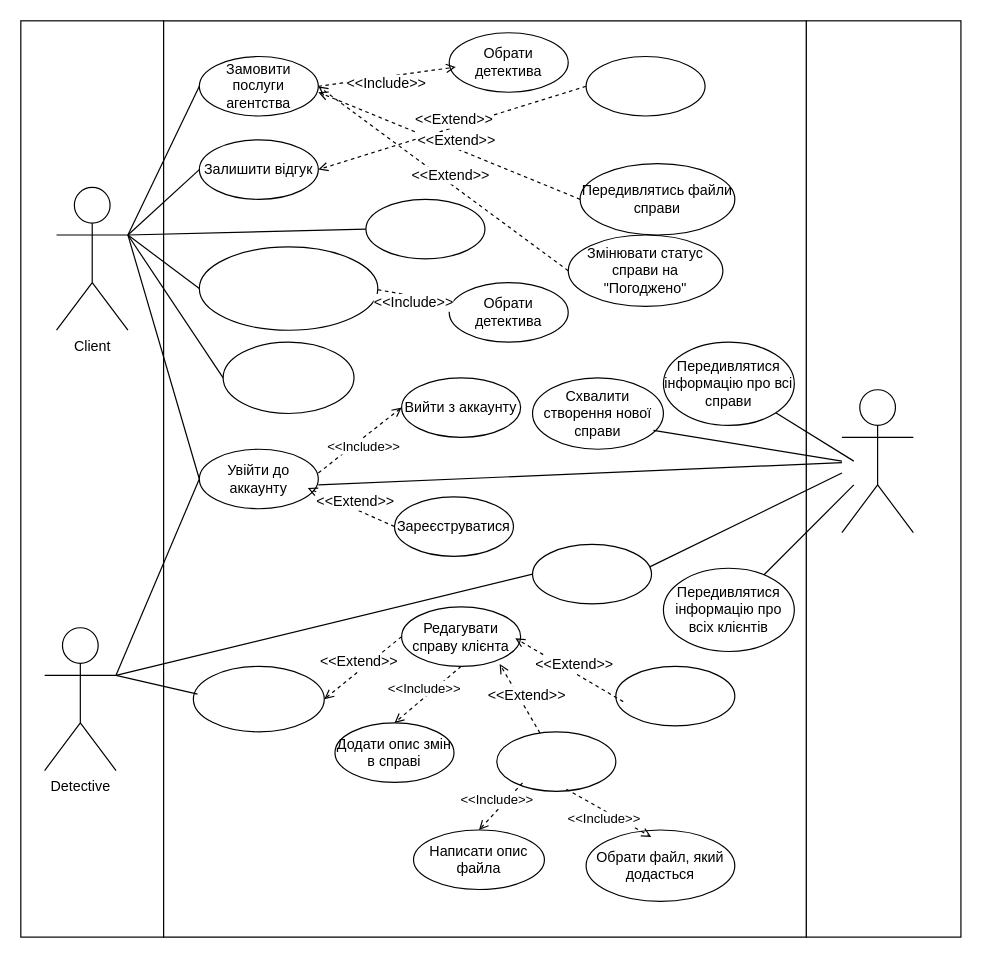
Image size: 982x958. Some labels were removed from this diagram. The shapes that lost their labels are listed below. From the top down, each one's centre as x and y in pixels, then its label:
At pixel 645 85: "Переглянути відгуки".
At pixel 425 228: "Прочитати інформацію про агентство".
At pixel 288 288: "Подивитись діаграму виконаних справи детектива".
At pixel 288 377: "Подивитись які послуги надає ангентство".
At pixel 877 461: "Manager".
At pixel 591 573: "Змінювати графік".
At pixel 258 698: "Переглянути список своїх клієнтів".
At pixel 675 695: "Видалити файли".
At pixel 556 761: "Додати файли".
